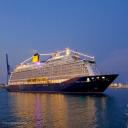cruises: (6, 48, 121, 98)
